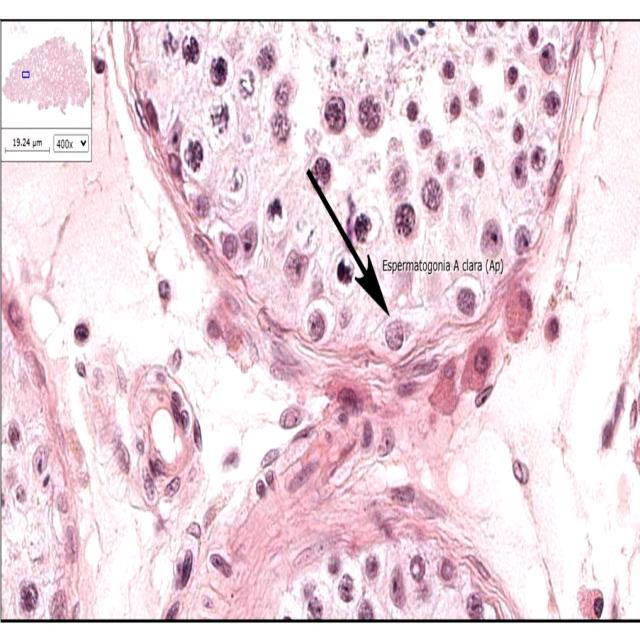Clase 10: (502, 285, 535, 343), (208, 97, 237, 148), (279, 248, 312, 289), (306, 153, 340, 189), (356, 93, 384, 135), (322, 94, 348, 134), (270, 75, 299, 110), (237, 220, 262, 260), (536, 88, 567, 119), (392, 202, 417, 239), (420, 175, 444, 212), (387, 163, 410, 198), (236, 66, 258, 102), (270, 109, 292, 144), (454, 285, 478, 316), (256, 41, 277, 73), (442, 93, 466, 121), (19, 581, 39, 614), (184, 140, 204, 173), (333, 257, 356, 285), (435, 556, 458, 584), (352, 212, 373, 242), (513, 224, 533, 255), (384, 320, 404, 351), (209, 55, 228, 87), (307, 309, 326, 341), (511, 153, 528, 188), (538, 42, 556, 75), (220, 232, 240, 261), (408, 553, 427, 582), (543, 314, 561, 343), (431, 149, 451, 175), (192, 193, 211, 220), (182, 36, 200, 63), (466, 592, 484, 619), (415, 126, 435, 150), (530, 145, 547, 173), (265, 197, 283, 222), (73, 320, 91, 344), (364, 554, 380, 580), (357, 598, 375, 620), (510, 121, 526, 144), (157, 278, 172, 302), (526, 24, 541, 48), (467, 85, 482, 108), (327, 554, 342, 575), (505, 64, 519, 86), (406, 99, 419, 122), (473, 155, 485, 179), (441, 60, 455, 80), (516, 84, 528, 104), (93, 56, 105, 73), (465, 21, 478, 36)
Clase 7: (0, 21, 640, 620), (0, 25, 103, 122), (268, 76, 301, 110), (349, 211, 375, 244), (209, 56, 228, 87), (71, 321, 92, 345), (543, 314, 560, 342), (418, 127, 434, 149), (406, 99, 419, 122)
Clase 8: (503, 285, 534, 342), (447, 83, 488, 124), (276, 248, 314, 289), (415, 175, 449, 214), (357, 94, 383, 133), (270, 75, 298, 110), (267, 108, 294, 144), (348, 211, 376, 244), (237, 221, 261, 259), (386, 162, 411, 198), (468, 344, 496, 376), (374, 425, 399, 460), (323, 96, 346, 134), (507, 457, 535, 487), (432, 556, 460, 585), (394, 202, 416, 238), (388, 565, 406, 609), (209, 99, 230, 136), (306, 308, 328, 342), (68, 319, 95, 346), (256, 41, 278, 74), (512, 224, 534, 256), (310, 156, 332, 188), (19, 581, 40, 614), (384, 320, 405, 351), (510, 154, 528, 188), (209, 55, 228, 87), (184, 140, 203, 172), (358, 418, 376, 451), (4, 418, 23, 449), (456, 287, 476, 316), (238, 67, 255, 100), (221, 232, 240, 261), (539, 43, 556, 74), (543, 314, 561, 343), (408, 553, 426, 582), (431, 149, 451, 175), (542, 90, 561, 116), (337, 573, 354, 602), (529, 145, 547, 172), (182, 36, 200, 63), (193, 193, 211, 219), (466, 592, 483, 619), (509, 120, 527, 145), (336, 258, 353, 284), (307, 595, 323, 620), (357, 598, 375, 620), (326, 553, 343, 576), (447, 94, 462, 120), (514, 82, 531, 104), (266, 198, 282, 221), (526, 24, 541, 48), (440, 59, 456, 80), (418, 127, 433, 149), (505, 64, 519, 87), (406, 100, 419, 122), (158, 279, 170, 302), (473, 155, 484, 179), (93, 56, 105, 74), (465, 21, 478, 36)
